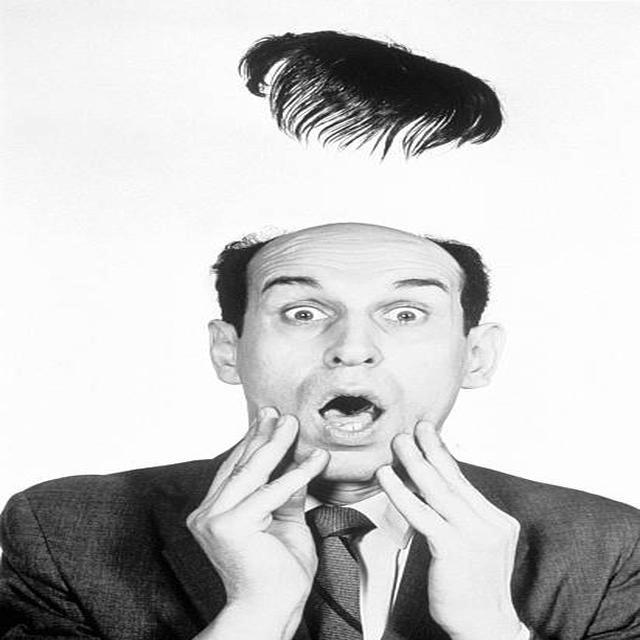Fear: (254, 251, 460, 479)
